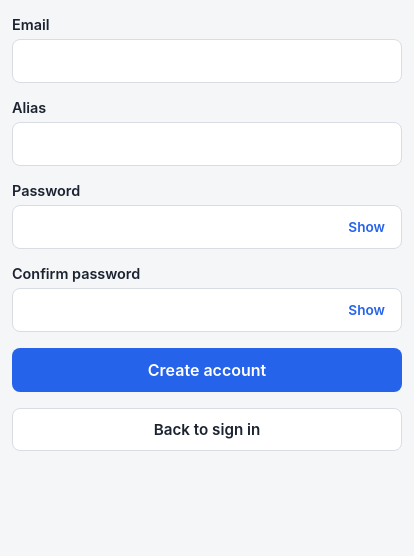
Test: RegistrationForm › shows a retryable message and retains safe values on a network failure
Type "ana@example.com" into the field labelled "Email". click: (207, 61)
box: [12,39,402,83]
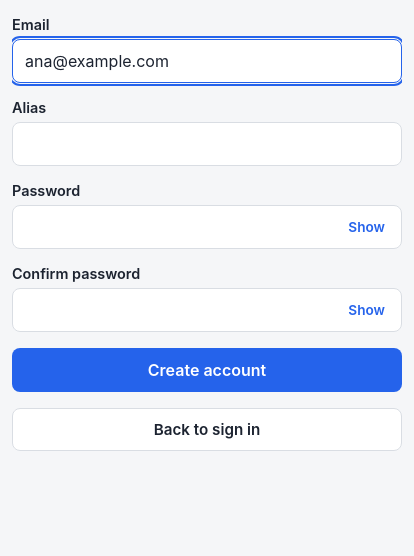
Type "Ana" into the field labelled "Alias". click: (207, 144)
box: [12,122,402,166]
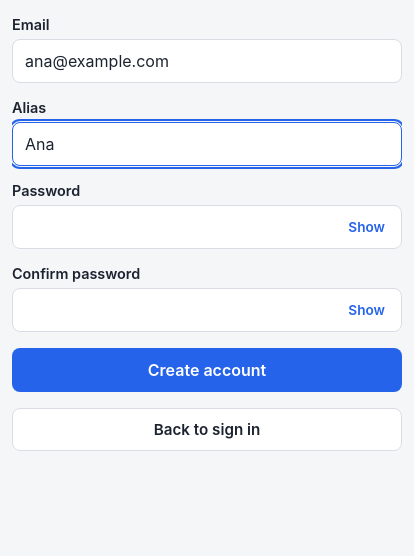
Type "correct-horse-battery-staple" into the password field labelled "Password". click: (207, 227)
box: [12,205,402,249]
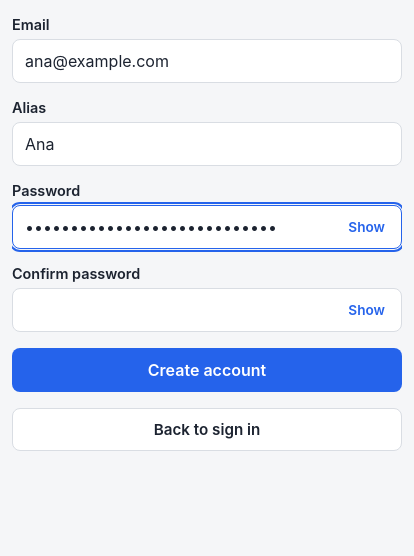
Type "correct-horse-battery-staple" into the password field labelled "Confirm password". click: (207, 310)
box: [12,288,402,332]
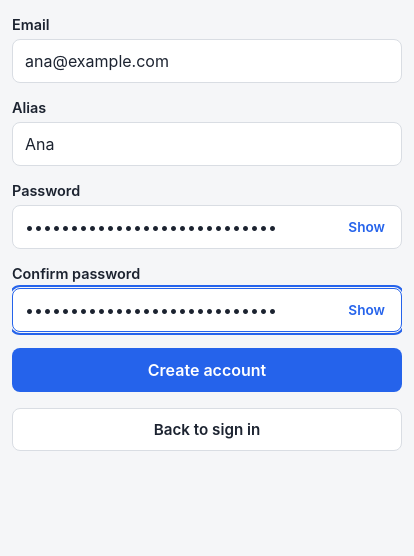
Click the button "Create account". click: (207, 370)
box: [12,348,402,392]
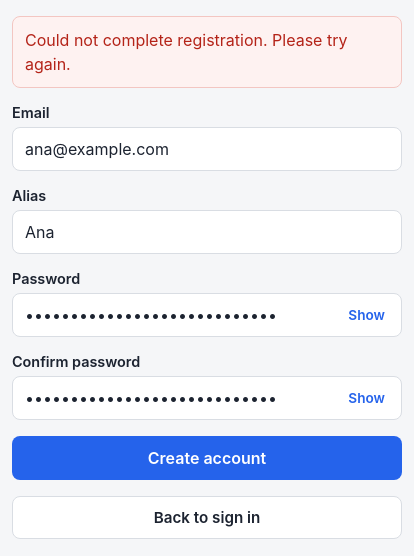
Check: the text "Could not complete registration. Please try again." is shown, box [12,16,402,88]
